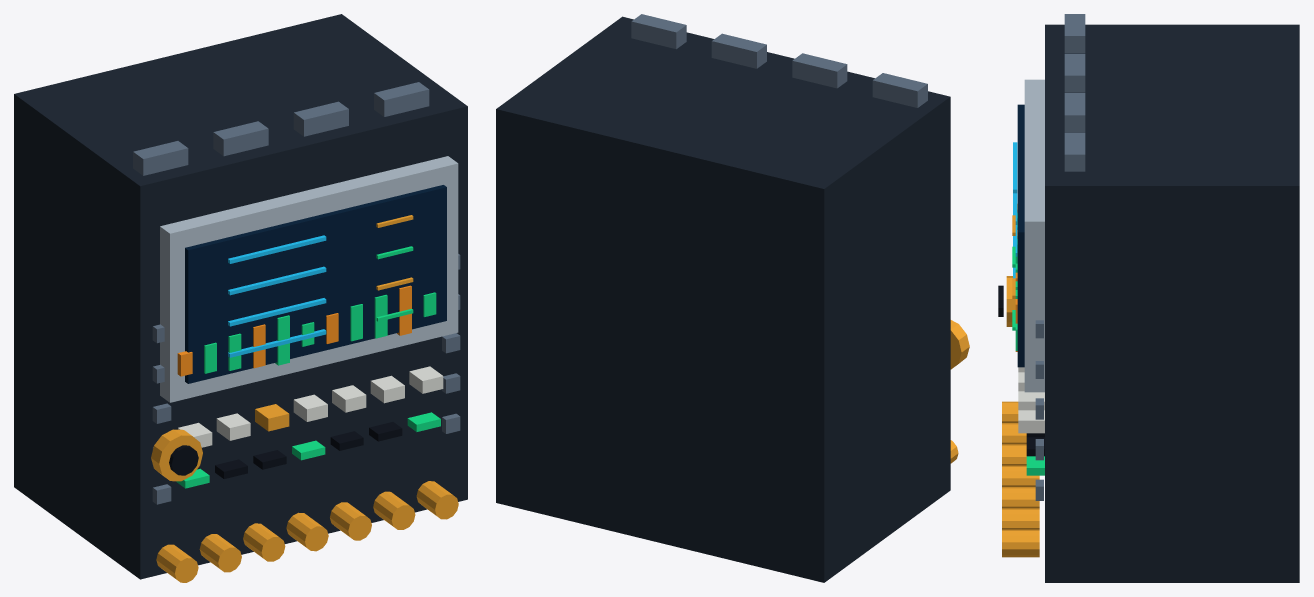
Rendered from 31_L87_BearingGapCalibrationStage.fbx.
3 renders of one model, left to right at view 1: azimuth 30°, elevation 25°; view 2: azimuth 150°, elevation 25°; view 3: azimuth 270°, elevation 25°, orthographic.
Visible parts, largest first — view 1: L87_BearingGapCalibrationStage, L87_BearingGapCalibrationStage_Part_0010, L87_BearingGapCalibrationStage_Part_0011; view 2: L87_BearingGapCalibrationStage, L87_BearingGapCalibrationStage_Part_0010; view 3: L87_BearingGapCalibrationStage.
Boxes of the visible parts, x1,y1,x2,y2 form: L87_BearingGapCalibrationStage: (14,14,467,582); L87_BearingGapCalibrationStage_Part_0010: (151,429,202,481); L87_BearingGapCalibrationStage_Part_0011: (169,445,198,475); L87_BearingGapCalibrationStage: (496,14,958,582); L87_BearingGapCalibrationStage_Part_0010: (950,320,969,369); L87_BearingGapCalibrationStage: (1002,14,1299,582).
Size of the model in its own units: 96.95 by 116 by 76.5.
